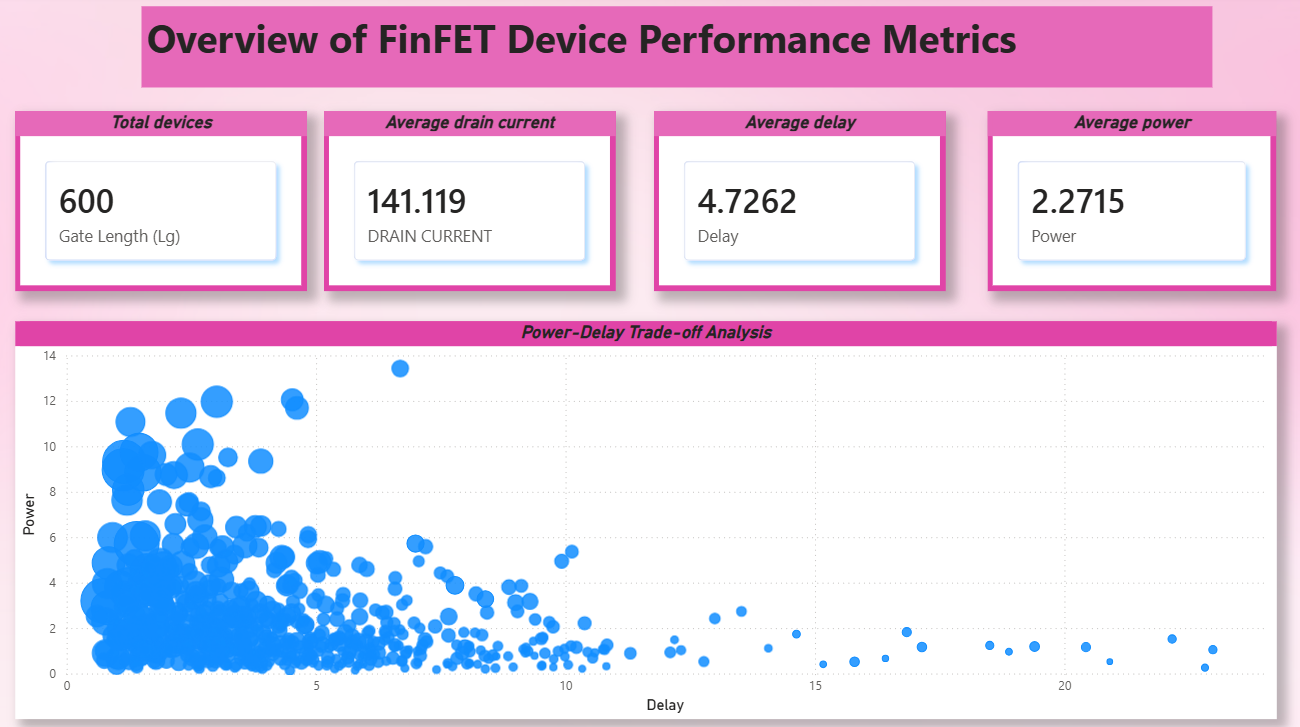

The page's visual inventory and layout, read from the dashboard file:
{"tool":"powerbi","page":{"name":"Executive Dashboard","canvas":[1280,720],"ordinal":0},"visuals":[{"type":"cardVisual","title":"Total devices","fields":{"Data":["CountNonNull(VLSI_ML_Dataset.Gate Length (Lg))"]},"box":[19.9,112.4,281.6,173.5],"z":0},{"type":"cardVisual","title":"Average drain current","fields":{"Data":["Avg(VLSI_ML_Dataset.Id)"]},"box":[318.6,112.4,281.6,173.5],"z":1000},{"type":"cardVisual","title":"Average  delay","fields":{"Data":["Avg(VLSI_ML_Dataset.Delay)"]},"box":[637.2,112.4,281.6,173.5],"z":2000},{"type":"cardVisual","title":"Average power","fields":{"Data":["Avg(VLSI_ML_Dataset.Power)"]},"box":[958.6,112.4,278.8,173.5],"z":3000},{"type":"scatterChart","title":"Power-Delay Trade-off Analysis","fields":{"Size":["Avg(VLSI_ML_Dataset.Id)"],"X":["VLSI_ML_Dataset.Delay"],"Y":["VLSI_ML_Dataset.Power"]},"box":[19.9,314.3,1217.4,384],"z":4000},{"type":"textbox","box":[142.2,11.4,1034,78.2],"z":4001}]}

Visuals, with their boxes in screenshot pixels (x1, y1, x2, y2), scaled from the page's 1280x720 canvas onto the 1300x727 screenshot:
"Total devices" cardVisual: x1=20, y1=113, x2=306, y2=289
"Average drain current" cardVisual: x1=324, y1=113, x2=610, y2=289
"Average  delay" cardVisual: x1=647, y1=113, x2=933, y2=289
"Average power" cardVisual: x1=974, y1=113, x2=1257, y2=289
"Power-Delay Trade-off Analysis" scatterChart: x1=20, y1=317, x2=1257, y2=705
textbox: x1=144, y1=12, x2=1195, y2=90
